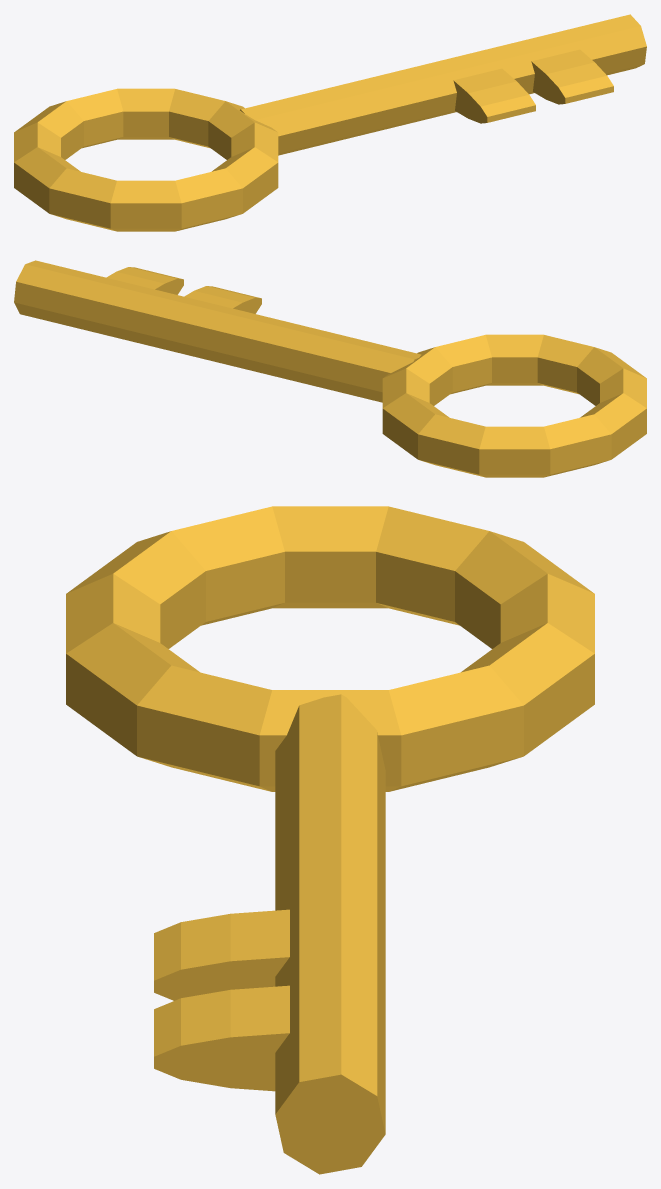
The model's file is key.obj.
3 views of the same model, one above another, from view 1: azimuth 30°, elevation 25°; view 2: azimuth 150°, elevation 25°; view 3: azimuth 270°, elevation 25° (orthographic). The views are drawn at different scales.
Parts seen in each view (by area): view 1: Torus, Cylinder, Key_right_Cylinder.002, Key_left_Cylinder.001; view 2: Torus, Cylinder, Key_left_Cylinder.001, Key_right_Cylinder.002; view 3: Torus, Cylinder, Key_right_Cylinder.002, Key_left_Cylinder.001.
Part boxes in pixels (left/top/right/bottom): Torus: left=14, top=88, right=278, bottom=231; Cylinder: left=240, top=14, right=646, bottom=155; Key_right_Cylinder.002: left=531, top=49, right=613, bottom=104; Key_left_Cylinder.001: left=453, top=68, right=535, bottom=123; Torus: left=382, top=334, right=646, bottom=477; Cylinder: left=14, top=260, right=421, bottom=402; Key_left_Cylinder.001: left=184, top=286, right=261, bottom=313; Key_right_Cylinder.002: left=106, top=267, right=183, bottom=294; Torus: left=66, top=506, right=594, bottom=791; Cylinder: left=275, top=694, right=385, bottom=1174; Key_right_Cylinder.002: left=154, top=985, right=289, bottom=1091; Key_left_Cylinder.001: left=154, top=909, right=289, bottom=1000.
Bounding box in the file's own units: 6.18 × 0.5 × 2.35.
